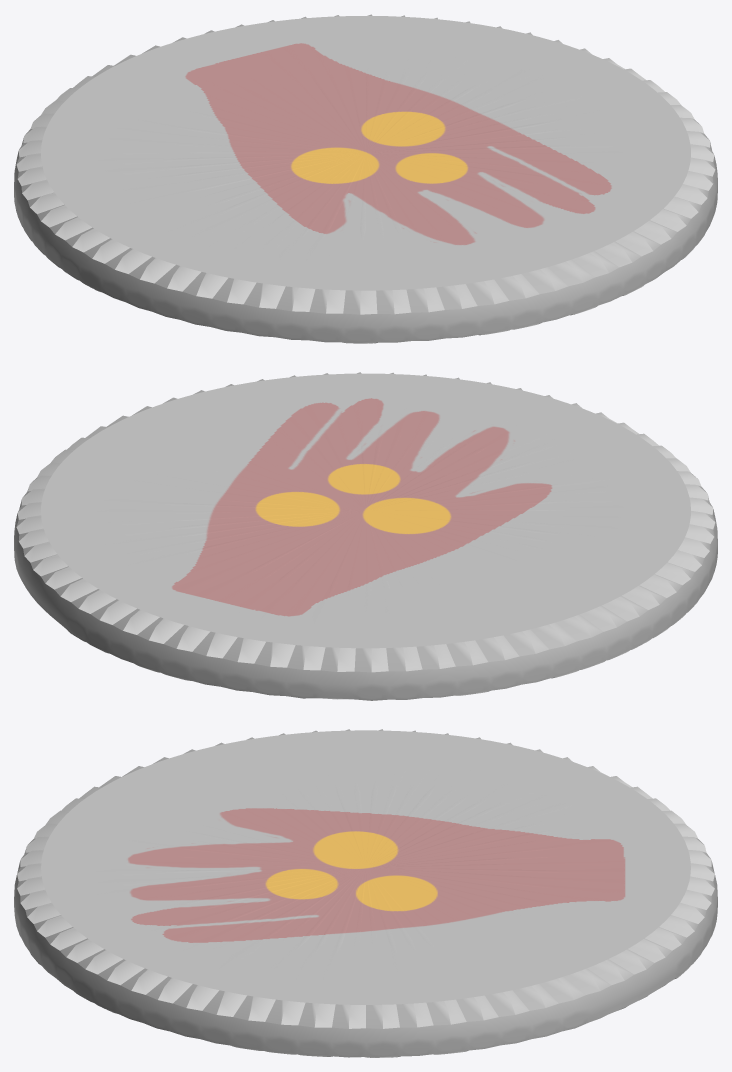
Rendered from pity.obj.
3 views of the same model, one above another, from view 1: azimuth 30°, elevation 25°; view 2: azimuth 150°, elevation 25°; view 3: azimuth 270°, elevation 25° (orthographic).
Parts seen in each view (by area): view 1: Cylinder; view 2: Cylinder; view 3: Cylinder.
Boxes of the visible parts, bbox=[...] form: Cylinder: bbox=[14, 14, 717, 343]; Cylinder: bbox=[14, 372, 717, 700]; Cylinder: bbox=[14, 729, 717, 1057].
Size of the model in its own units: 2 by 0.1305 by 2.
Materials: 1 (1 with a texture image).
